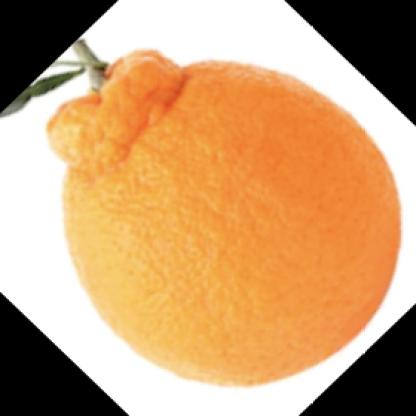fresh: (49, 50, 400, 385)
